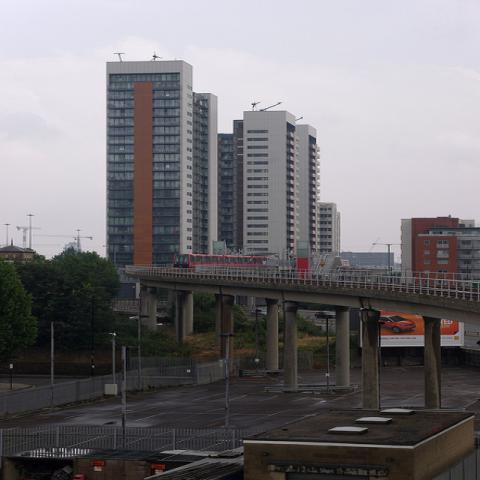bus: (169, 250, 270, 268)
car: (315, 311, 336, 319), (250, 309, 267, 315)
